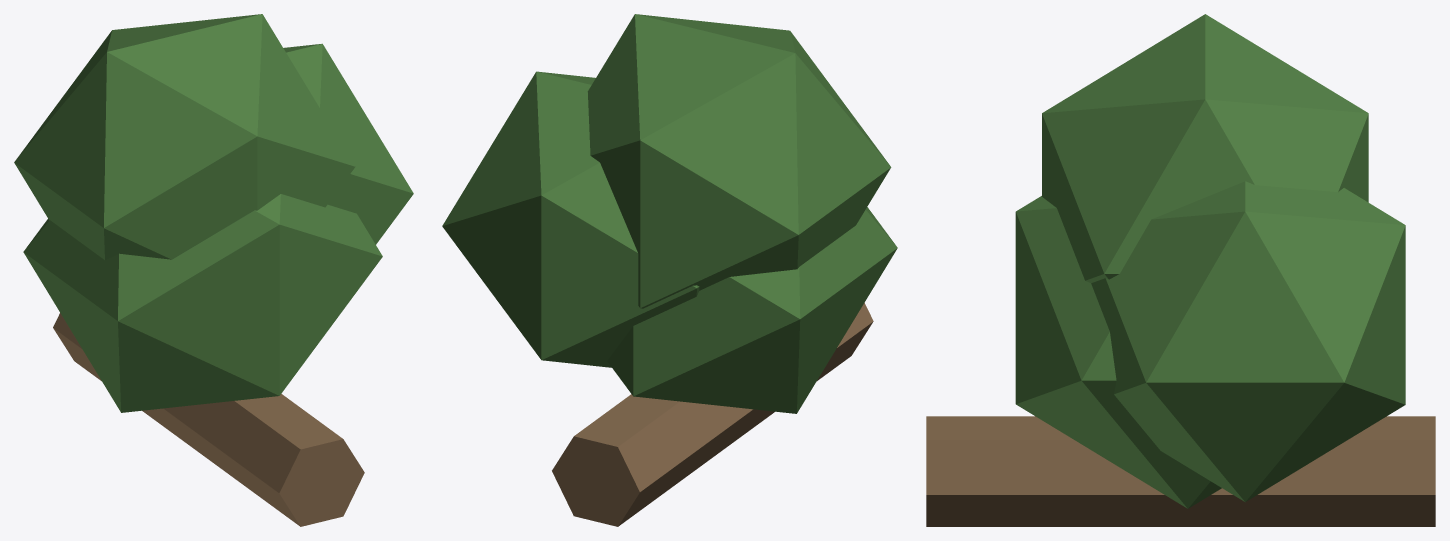
Rendered from tree_s5_05.glb.
The picture shows the model from 3 angles, left to right: view 1: azimuth 30°, elevation 25°; view 2: azimuth 150°, elevation 25°; view 3: azimuth 270°, elevation 25°; orthographic projection. The views are drawn at different scales.
Visible parts, largest first — view 1: geometry_0; view 2: geometry_0; view 3: geometry_0.
Part boxes in pixels (x1,y1,x2,y2): geometry_0: (14, 14, 413, 526); geometry_0: (442, 14, 897, 526); geometry_0: (926, 14, 1435, 526).
Size of the model in its own units: 3.02 by 3.53 by 3.61.
